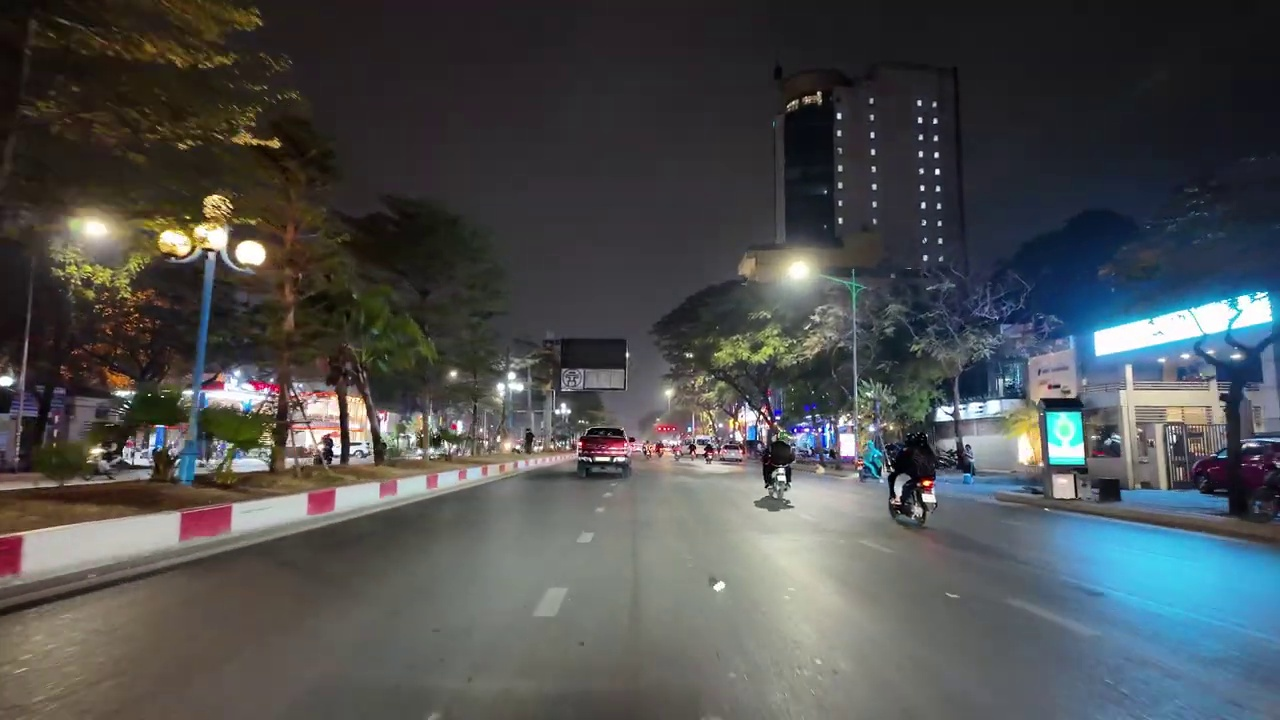acesa: (75, 214, 117, 244), (234, 239, 267, 269), (781, 256, 814, 285)
